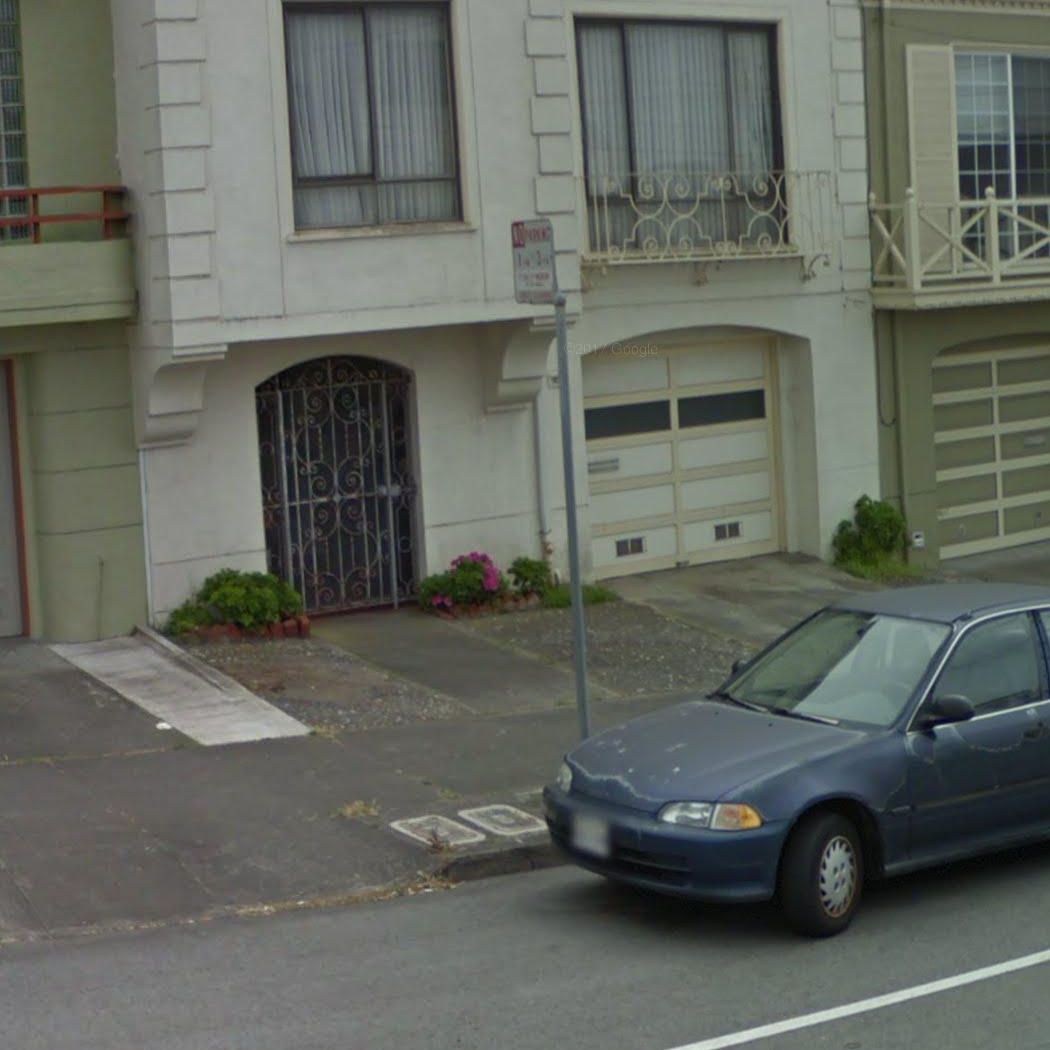No Parking: (510, 218, 557, 303)
